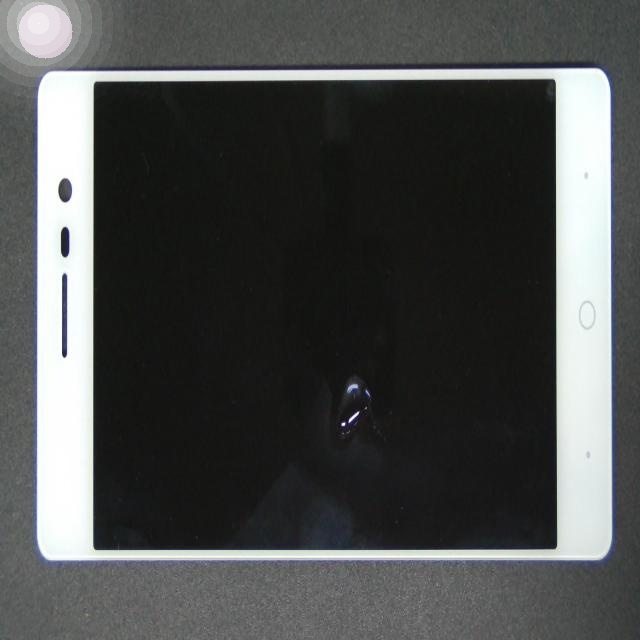oil: (198, 185, 549, 554)
